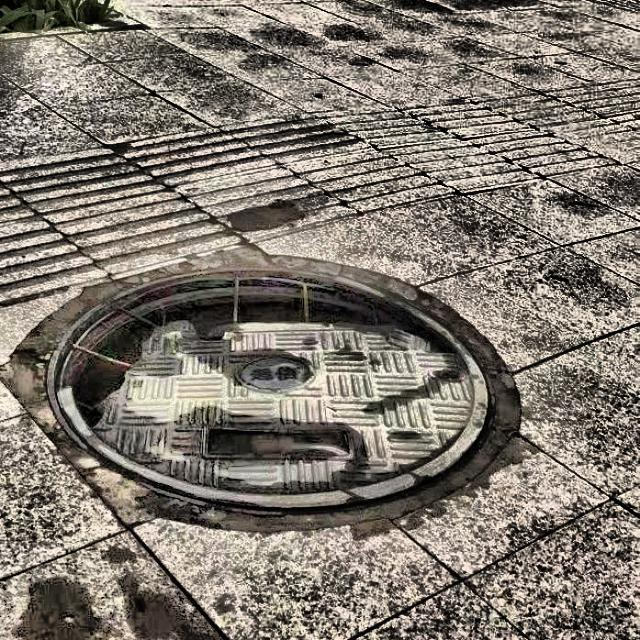open_manhole: (10, 255, 520, 528)
